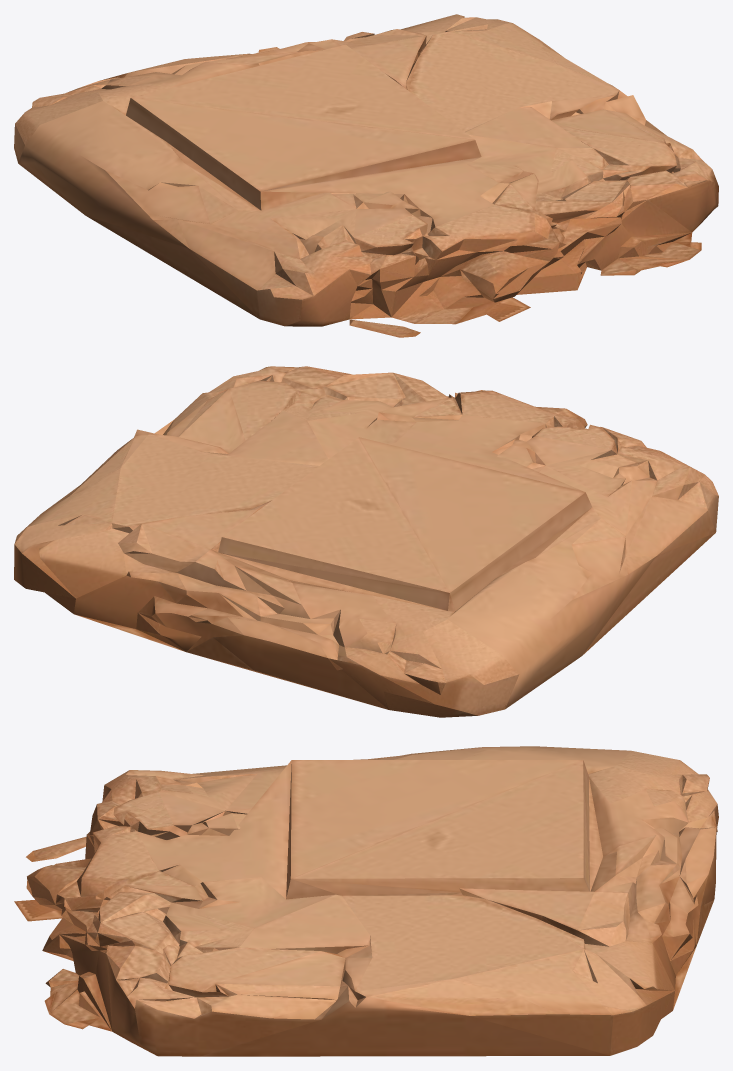
The model's file is west_rock_small.glb.
3 views of the same model, one above another, from view 1: azimuth 30°, elevation 25°; view 2: azimuth 150°, elevation 25°; view 3: azimuth 270°, elevation 25° (orthographic). The views are drawn at different scales.
Visible parts, largest first — view 1: mesh_node; view 2: mesh_node; view 3: mesh_node.
Part boxes in pixels (bbox=[...]): mesh_node: bbox=[14, 14, 718, 337]; mesh_node: bbox=[14, 366, 718, 717]; mesh_node: bbox=[14, 746, 718, 1056].
Bounding box in the file's own units: 1.72 × 0.2312 × 1.9.
1 material, 1 textured.
